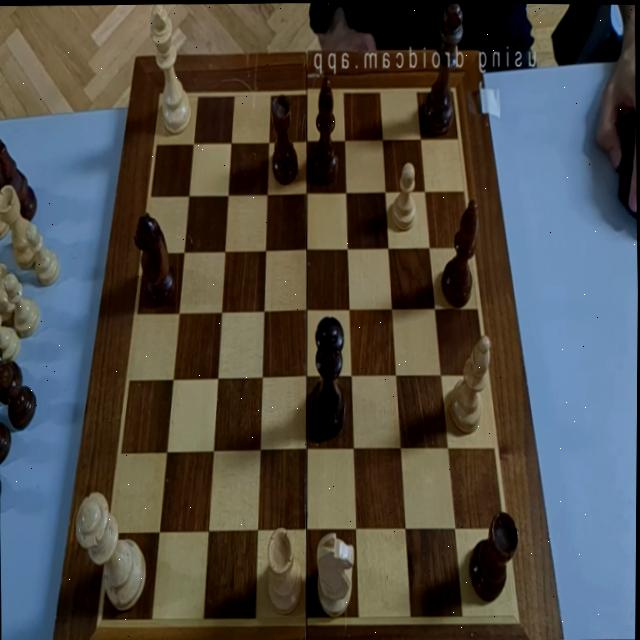black_bishop: (440, 196, 480, 306), (310, 76, 339, 184)
black_king: (422, 2, 465, 135)
black_knight: (134, 210, 176, 307)
black_queen: (308, 315, 346, 440)
black_rook: (468, 509, 522, 602), (270, 93, 298, 184)
white_bishop: (447, 333, 492, 433)
white_king: (148, 3, 193, 136)
white_knight: (317, 529, 356, 616)
white_pawn: (391, 160, 418, 229)
white_queen: (74, 489, 148, 611)
white_rook: (266, 526, 304, 615)
